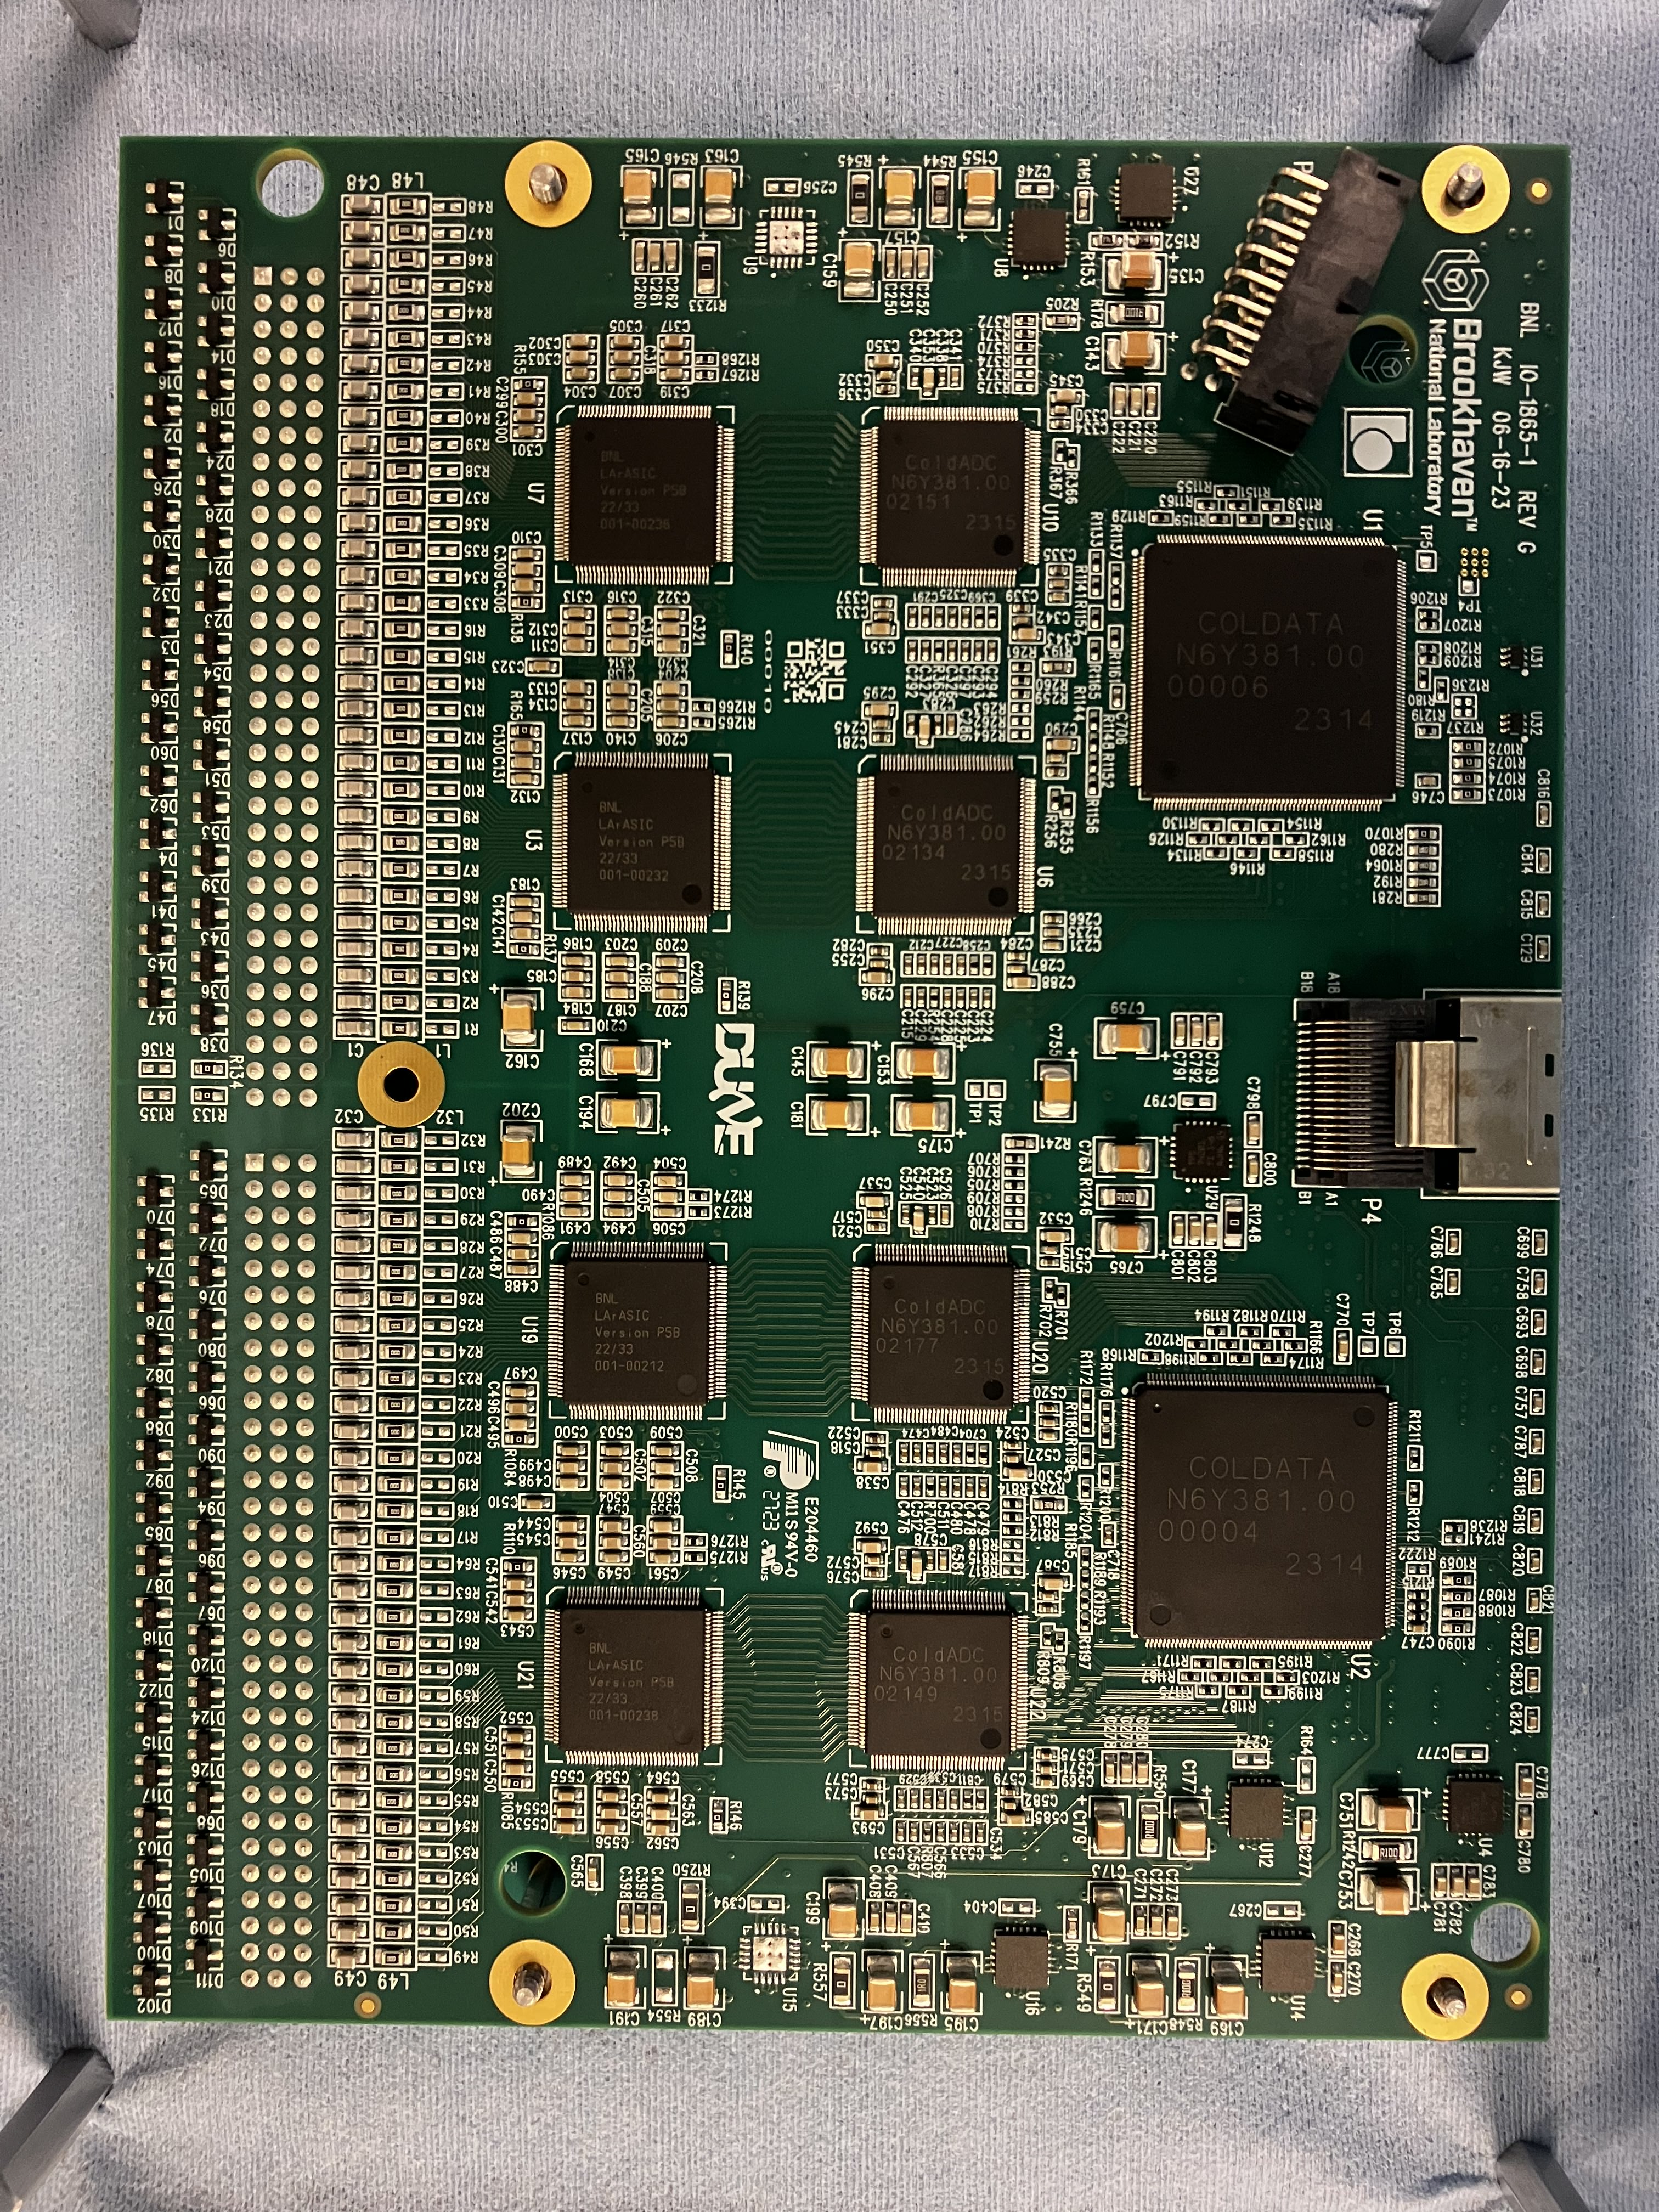chip: (1133, 1386, 1384, 1641), (1141, 545, 1392, 799), (878, 418, 1025, 570), (873, 768, 1019, 920), (866, 1258, 1012, 1409), (556, 1604, 702, 1756), (866, 1606, 1012, 1757), (570, 418, 716, 568), (568, 766, 714, 916), (563, 1256, 709, 1406)
